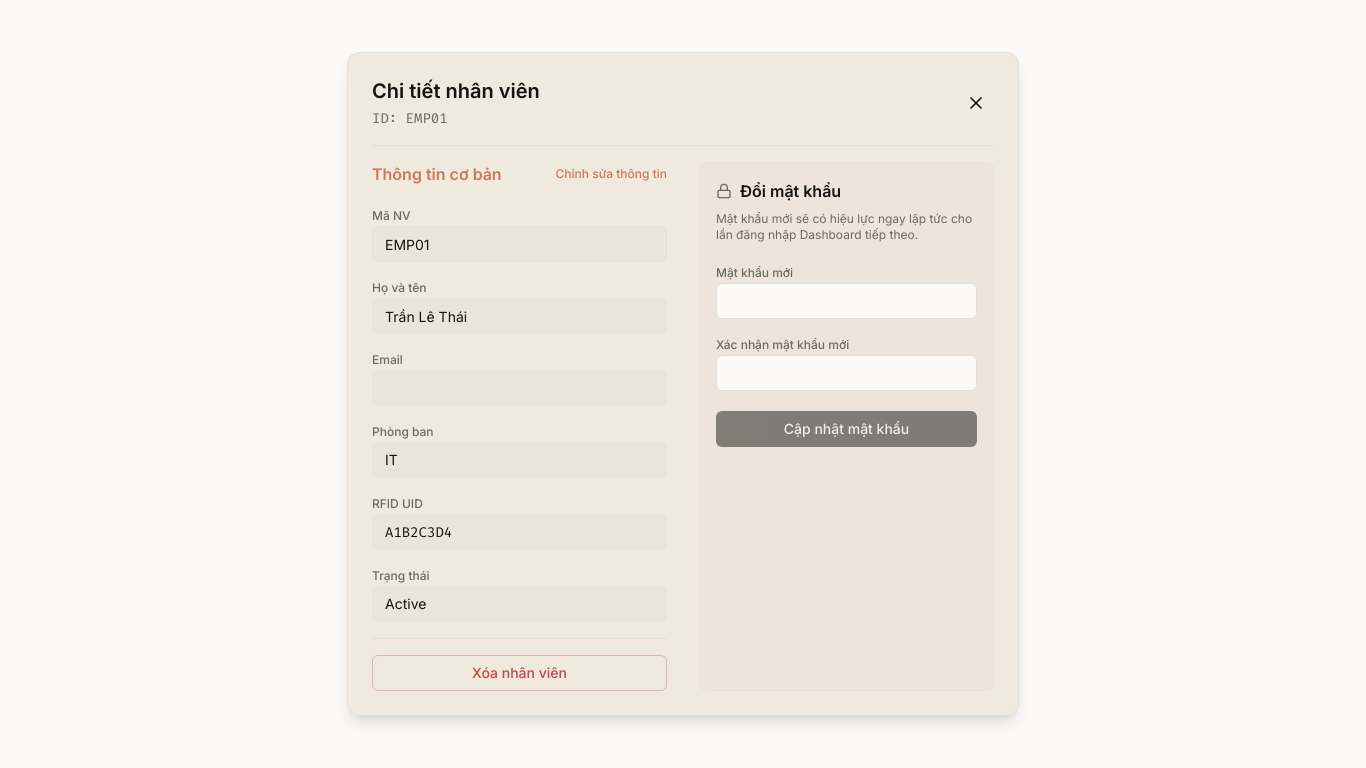
Test: EmployeeDetailModal › switches to edit mode
The image size is (1366, 768).
Step 1. Click the button "Chỉnh sửa thông tin" → (611, 174), box [556, 166, 667, 182]
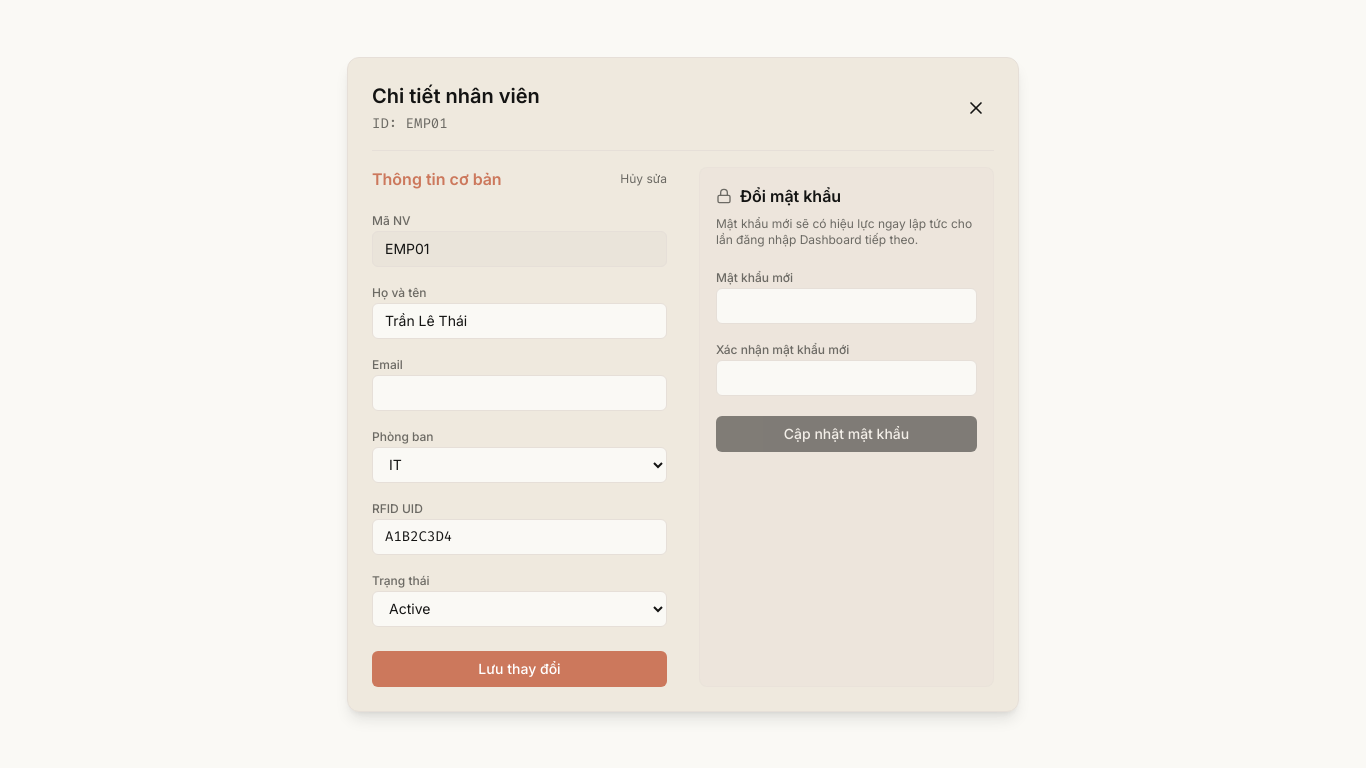
Result: the button "Lưu thay đổi" is shown at [372, 650, 667, 686]
